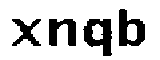b: (116, 5, 147, 53)
n: (43, 17, 81, 51)
q: (80, 14, 113, 60)
x: (9, 14, 44, 51)
